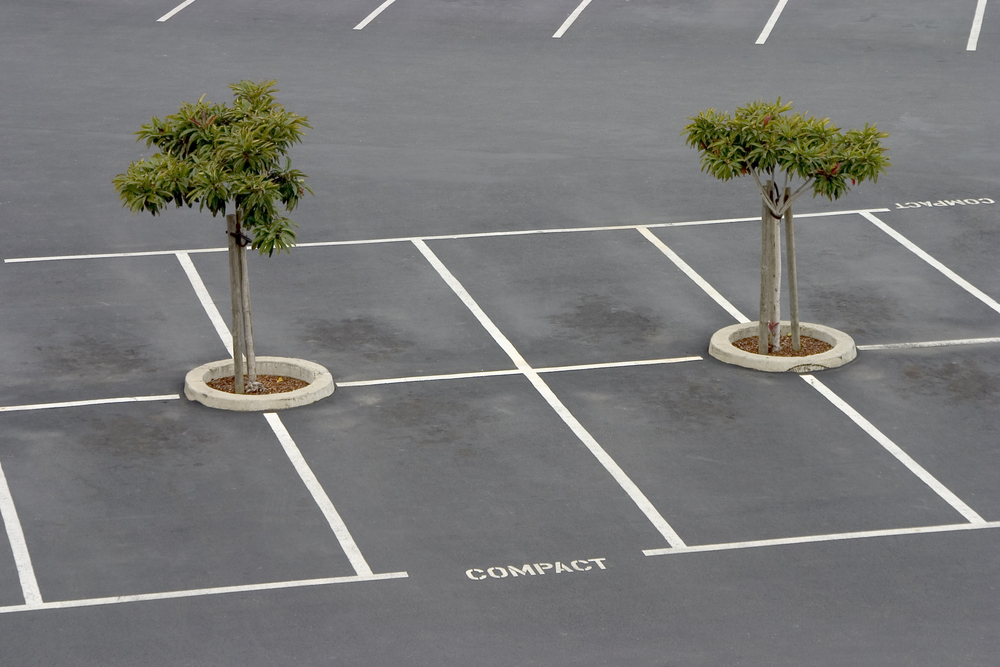empyt_space: (251, 367, 696, 589), (515, 353, 992, 557), (2, 395, 389, 630), (629, 208, 1000, 372), (168, 238, 536, 397), (407, 217, 768, 373), (775, 336, 1000, 534), (5, 247, 248, 415), (861, 200, 1000, 310)
